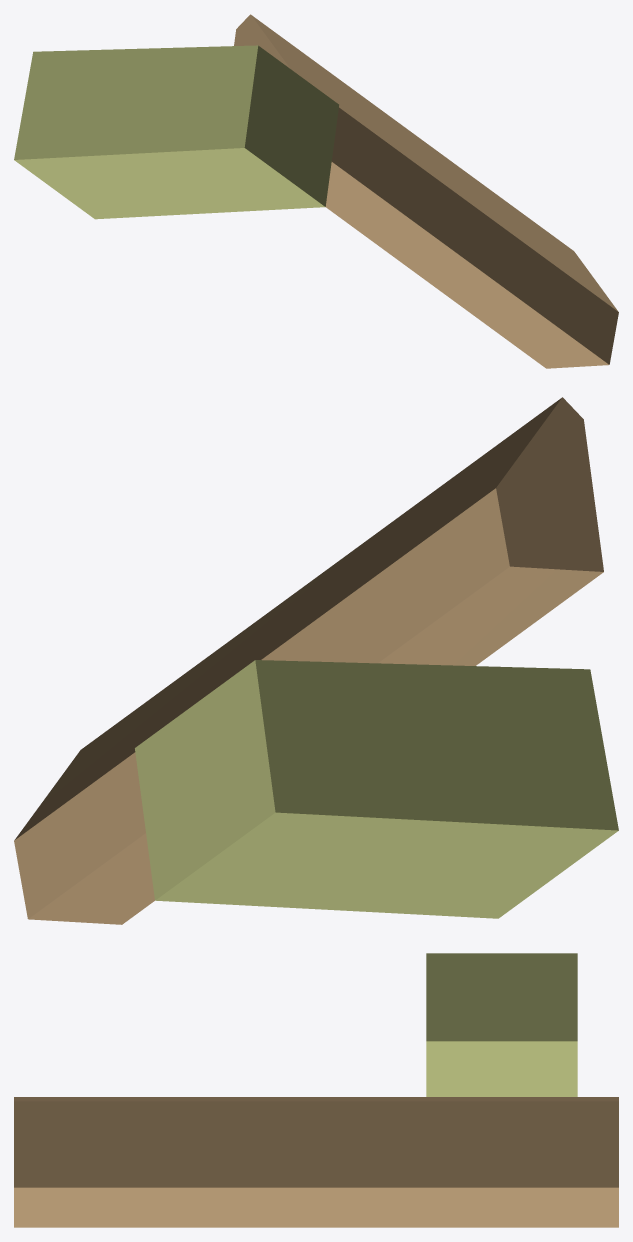
The picture shows the model from 3 angles, top to bottom: view 1: azimuth 30°, elevation 25°; view 2: azimuth 150°, elevation 25°; view 3: azimuth 270°, elevation 25°; orthographic projection. The views are drawn at different scales.
Visible parts, largest first — view 1: 0_1_2_0_3_3_2_0_2; view 2: 0_1_2_0_3_3_2_0_2; view 3: 0_1_2_0_3_3_2_0_2.
Part boxes in pixels (x1,y1,x2,y2): 0_1_2_0_3_3_2_0_2: (14, 14, 618, 368); 0_1_2_0_3_3_2_0_2: (14, 397, 618, 924); 0_1_2_0_3_3_2_0_2: (14, 953, 618, 1227).
Size of the model in its own units: 12.98 by 6.53 by 24.
